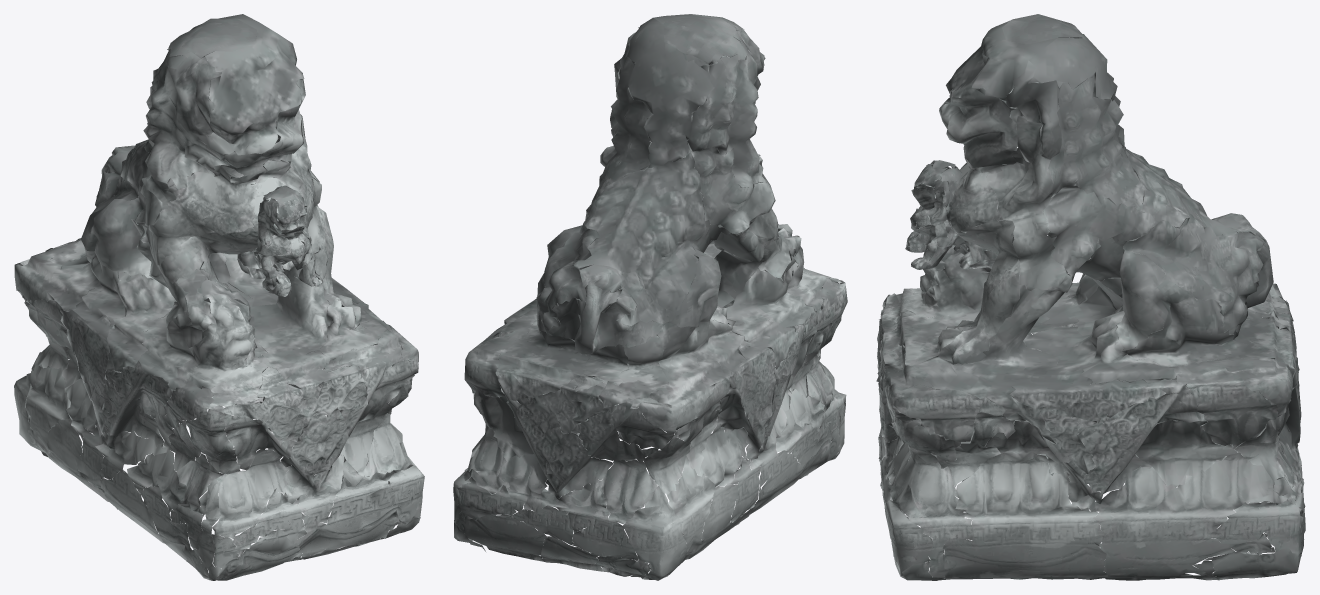
Rendered from stone-lion-female.glb.
3 renders of one model, left to right at view 1: azimuth 30°, elevation 25°; view 2: azimuth 150°, elevation 25°; view 3: azimuth 270°, elevation 25°, orthographic. The views are drawn at different scales.
Visible parts, largest first — view 1: LionFemale; view 2: LionFemale; view 3: LionFemale.
Part boxes in pixels (bbox=[...]): LionFemale: bbox=[14, 14, 424, 580]; LionFemale: bbox=[453, 14, 847, 580]; LionFemale: bbox=[876, 14, 1305, 580].
Size of the model in its own units: 0.5597 by 1.08 by 0.8451.
Materials: 1 (1 with a texture image).
